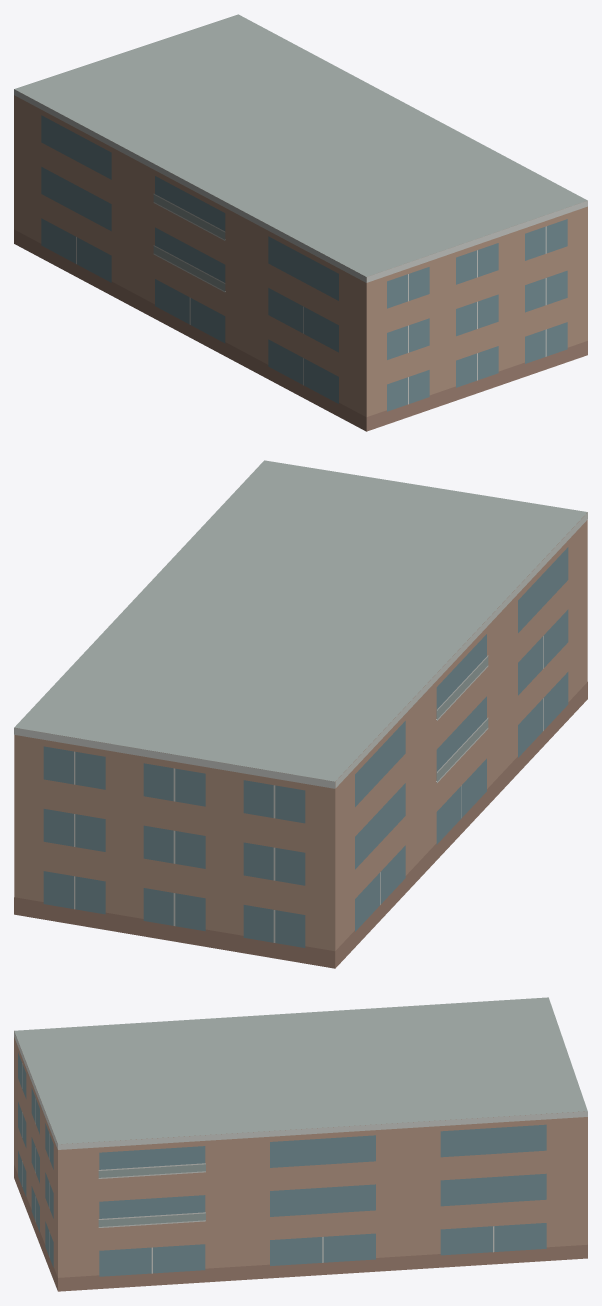
Rendered from survey-upis-32540032.glb.
The picture shows the model from 3 angles, top to bottom: view 1: azimuth 30°, elevation 25°; view 2: azimuth 150°, elevation 25°; view 3: azimuth 270°, elevation 25°; orthographic projection. The views are drawn at different scales.
Parts seen in each view (by area): view 1: survey-upis-32540032.tmp; view 2: survey-upis-32540032.tmp; view 3: survey-upis-32540032.tmp.
Part boxes in pixels (box(x1,y1,x2,y2)): survey-upis-32540032.tmp: box(14, 14, 587, 431); survey-upis-32540032.tmp: box(14, 460, 587, 968); survey-upis-32540032.tmp: box(14, 997, 587, 1291).
Bounding box in the file's own units: 13.5 × 6.3 × 22.26.
